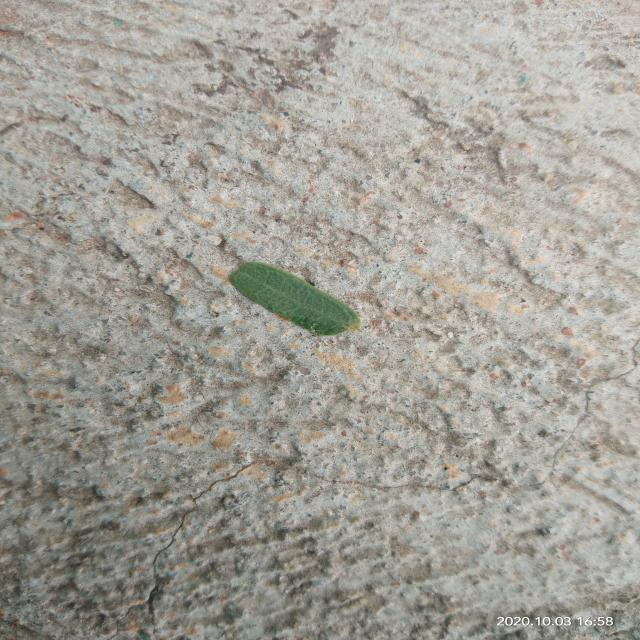tamarind: (230, 262, 362, 335)
